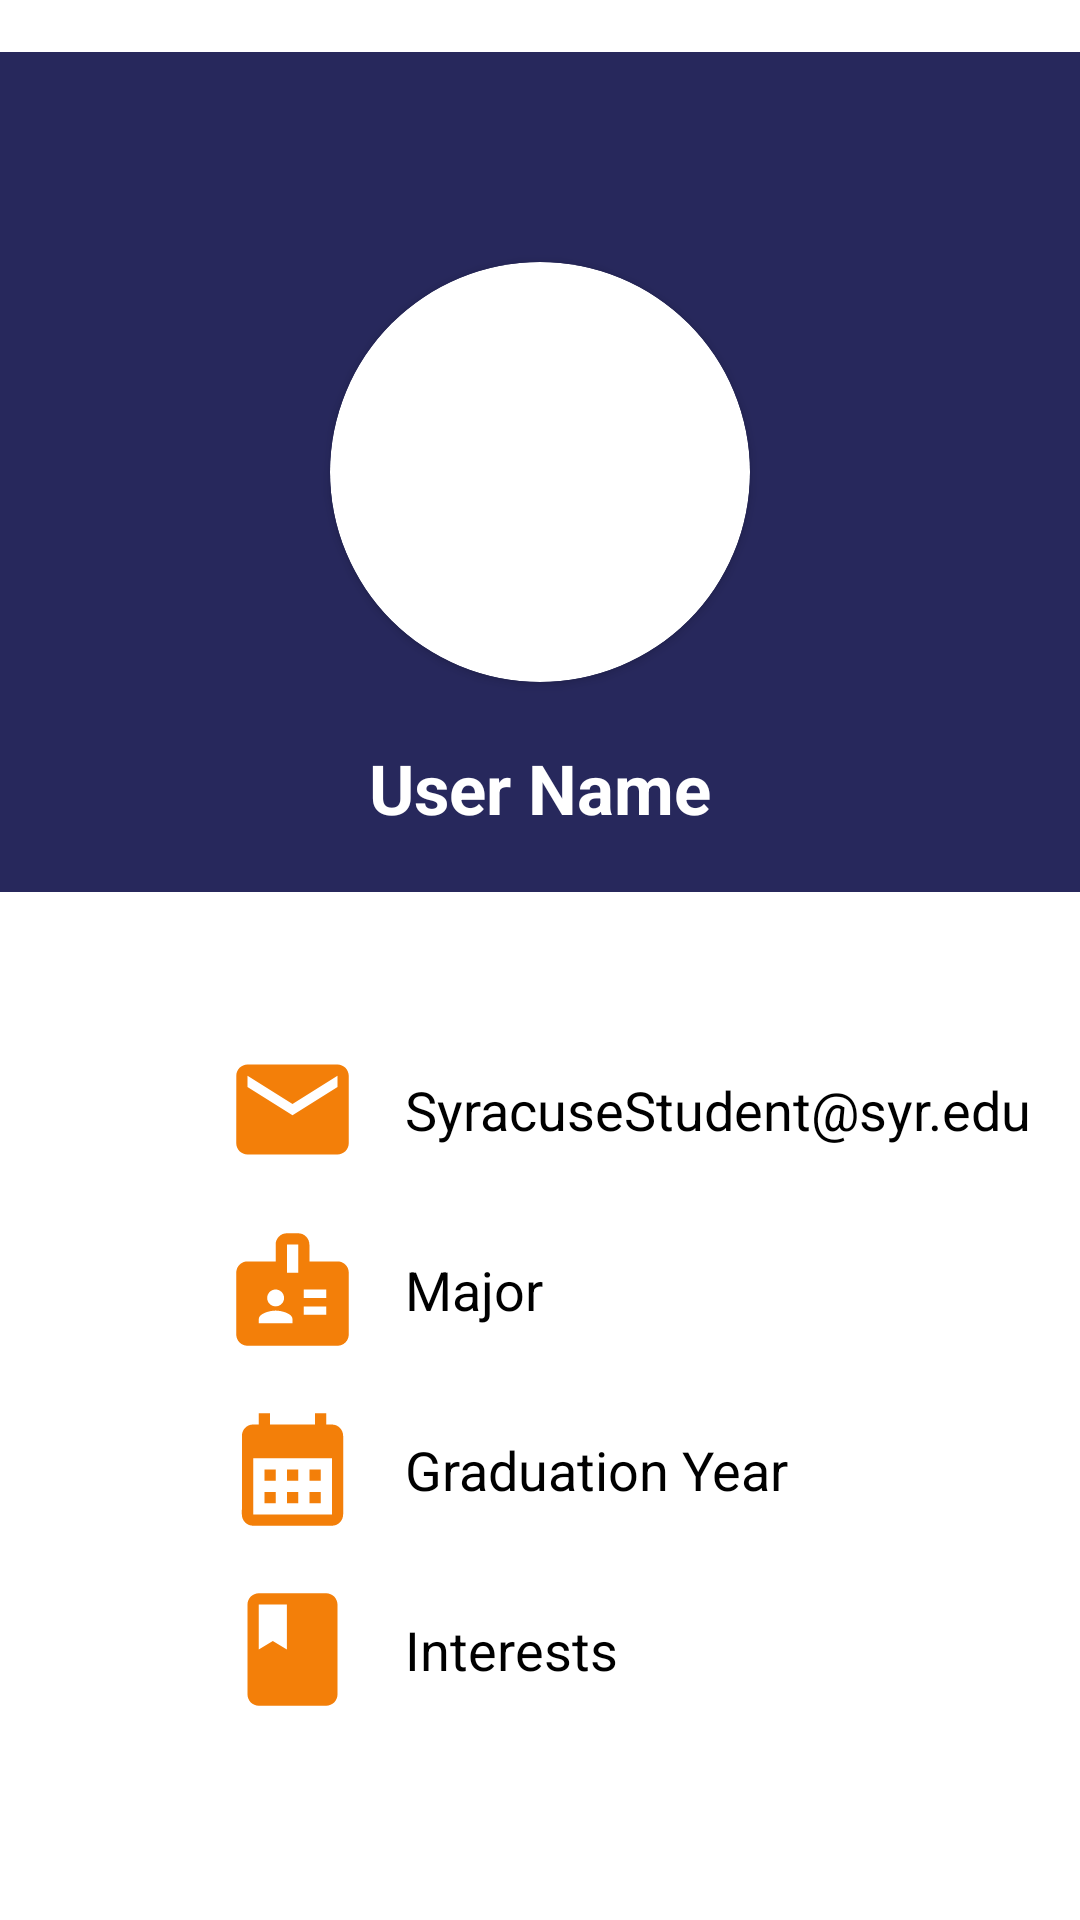

Screen size 1080px×1920px. Icon name, then its box in pixels as (x1, y1, x2, y2):
badge: (236, 1233, 349, 1346)
book: (247, 1593, 338, 1706)
calendar month: (241, 1413, 344, 1526)
email: (236, 1064, 349, 1155)
